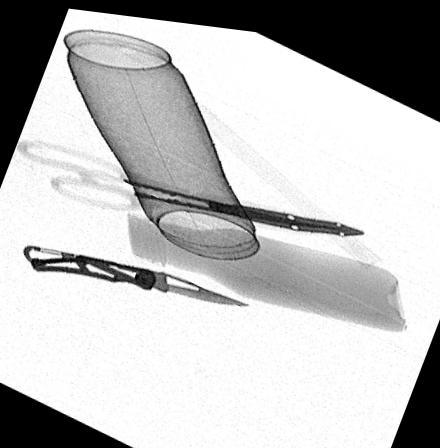Knife: (19, 243, 247, 298)
Scissors: (20, 134, 366, 225)
